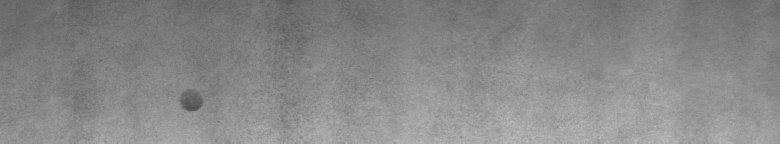fi: (176, 93, 204, 119)
